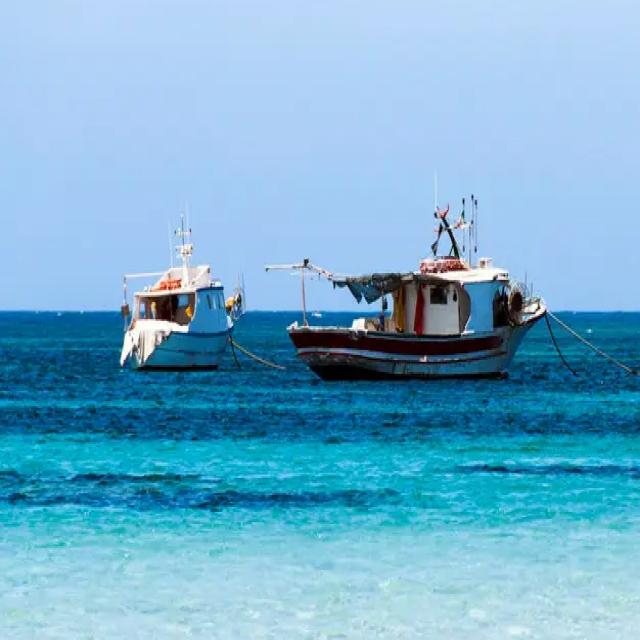fishing boat: (280, 194, 549, 375), (116, 209, 248, 368)
